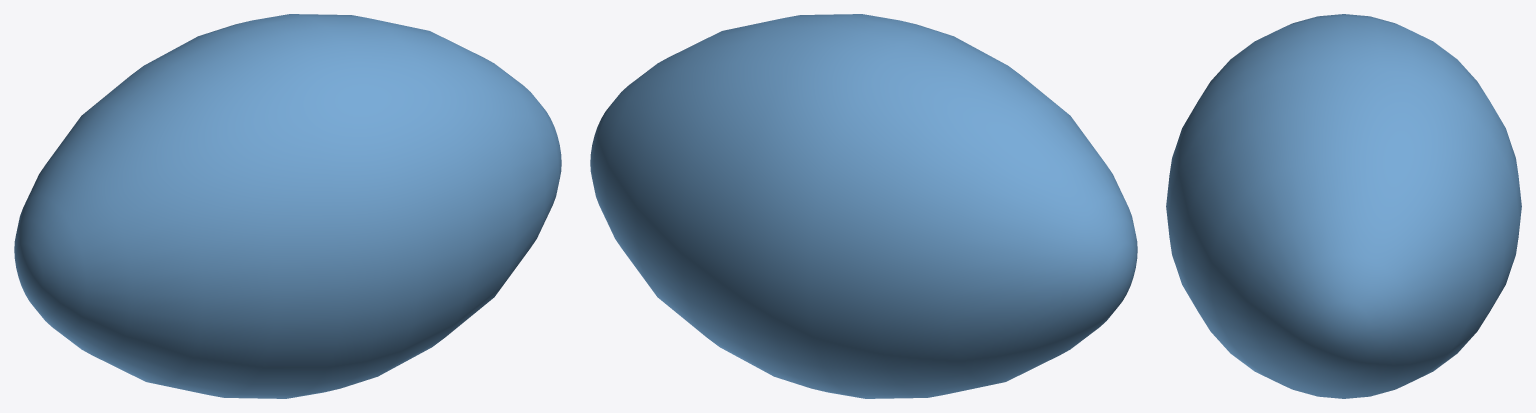
Rendered from Ball_01.fbx.
3 views of the same model, side by side, from view 1: azimuth 30°, elevation 25°; view 2: azimuth 150°, elevation 25°; view 3: azimuth 270°, elevation 25° (orthographic). The views are drawn at different scales.
Parts seen in each view (by area): view 1: Circle.001; view 2: Circle.001; view 3: Circle.001.
Part boxes in pixels (<box>): Circle.001: <box>14,14,561,398</box>; Circle.001: <box>590,14,1137,398</box>; Circle.001: <box>1166,14,1521,398</box>.
Size of the model in its own units: 0.4042 by 0.2539 by 0.2539.
